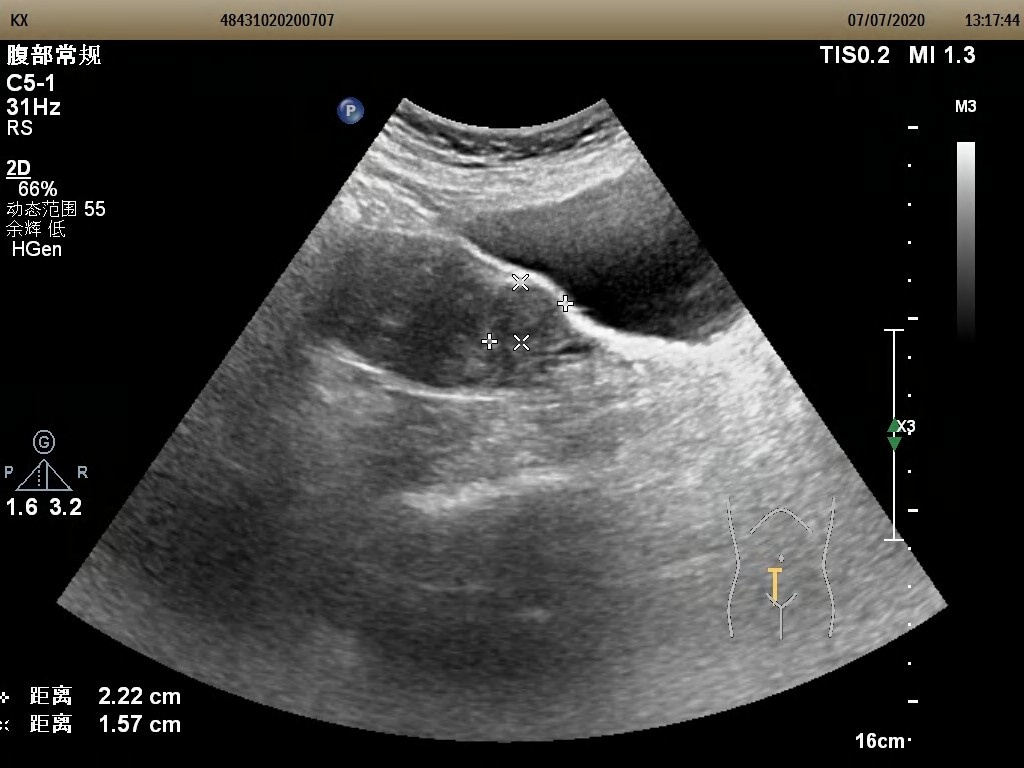肌瘤: (486, 283, 558, 341)
